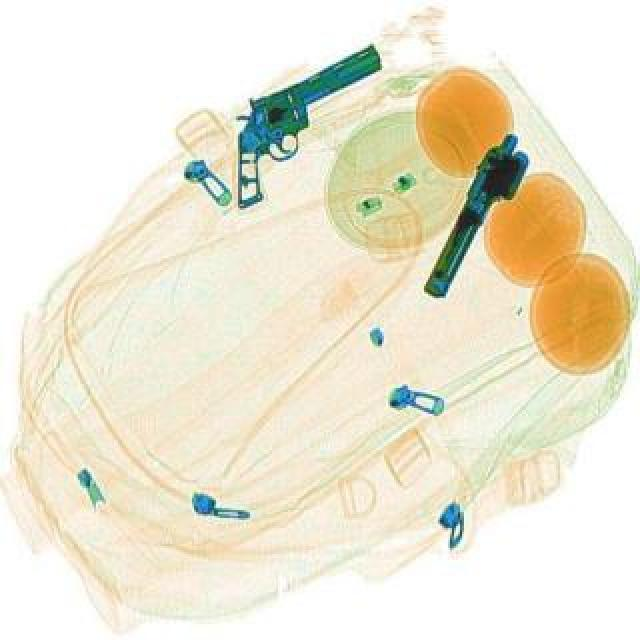gun: (194, 42, 422, 214), (414, 130, 542, 312)
